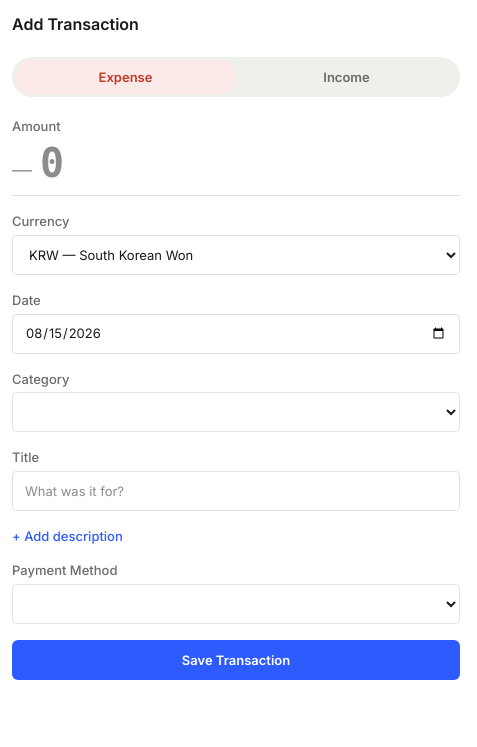
Test: Add Transaction page › shows a success message, clears amount and title, and stays on Add
In the field labelled "Amount": (250, 163) [40,139,460,187], type "12000"
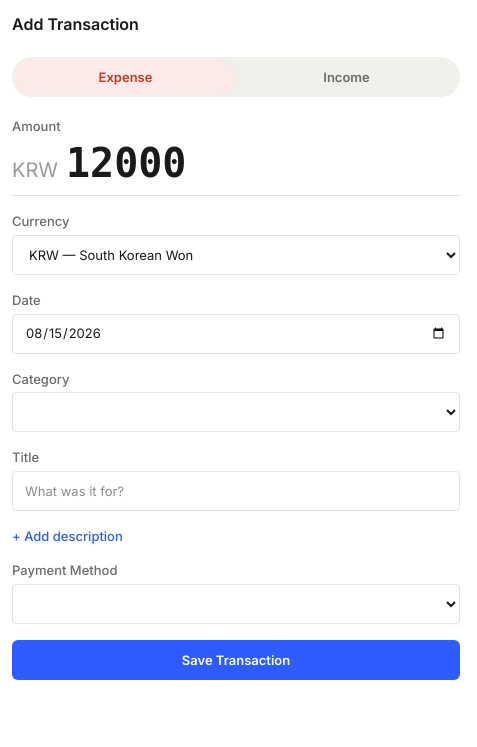
In the field labelled "Title": (236, 491) [12,471,460,511], type "Lunch"
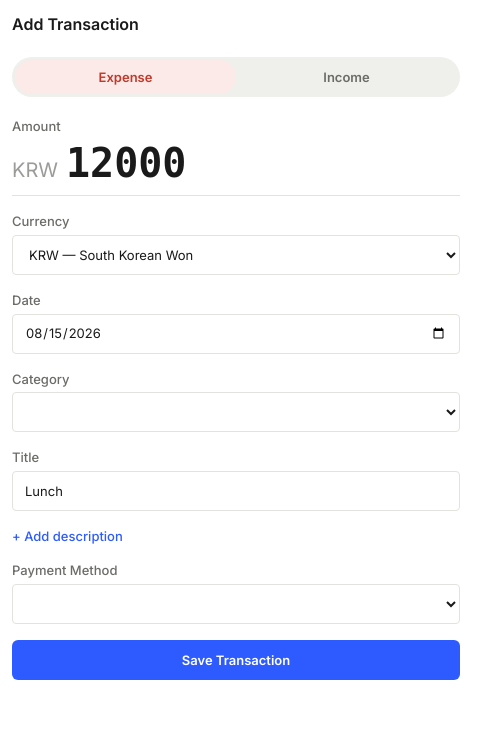
Click the button "Save Transaction": (236, 660) [12,640,460,680]
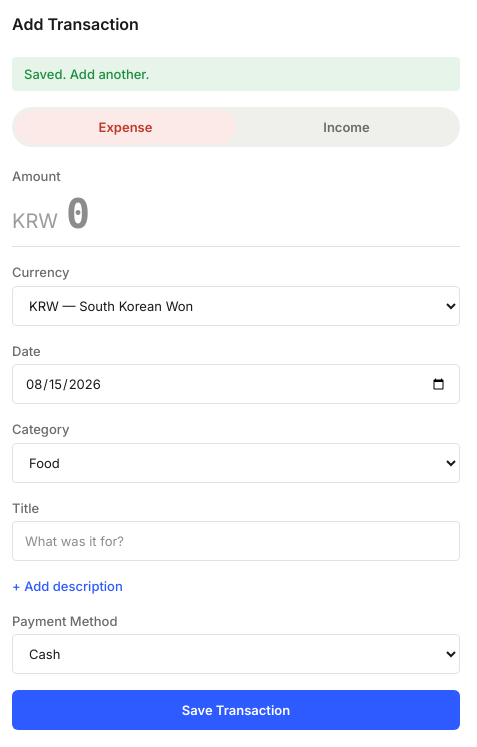
Expected: the text "Saved. Add another." is shown, [12,57,460,92]
Expected: the field labelled "Amount" is empty, [66,190,460,238]
Expected: the field labelled "Title" is empty, [12,521,460,561]
